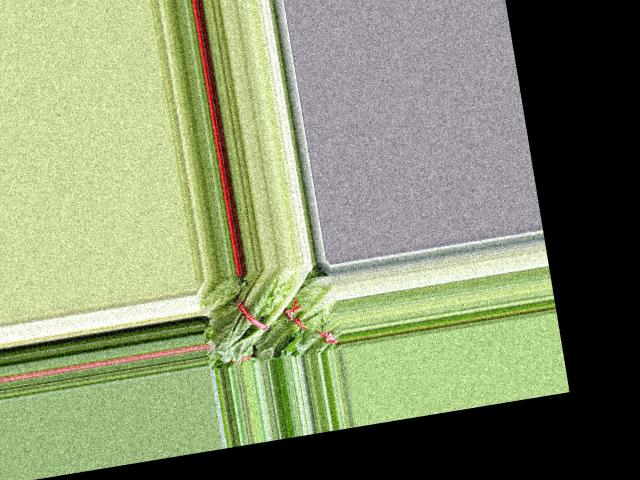lettuce: (200, 261, 324, 365)
